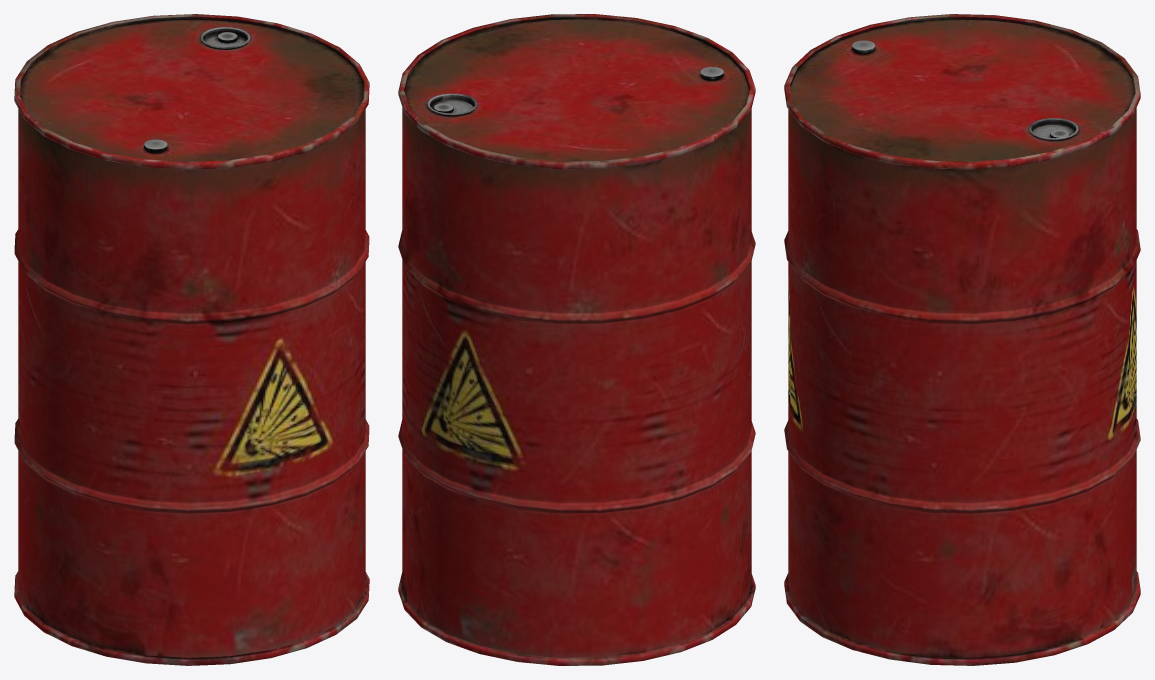
File: Barrel_01.gltf
3 renders of one model, left to right at view 1: azimuth 30°, elevation 25°; view 2: azimuth 150°, elevation 25°; view 3: azimuth 270°, elevation 25°, orthographic.
Parts seen in each view (by area): view 1: Barrel_01; view 2: Barrel_01; view 3: Barrel_01.
Boxes of the visible parts, x1,y1,x2,y2 form: Barrel_01: [14, 14, 369, 665]; Barrel_01: [398, 14, 755, 665]; Barrel_01: [784, 14, 1140, 665].
Bounding box in the file's own units: 0.563 × 0.88 × 0.563.
1 material, 1 textured.
